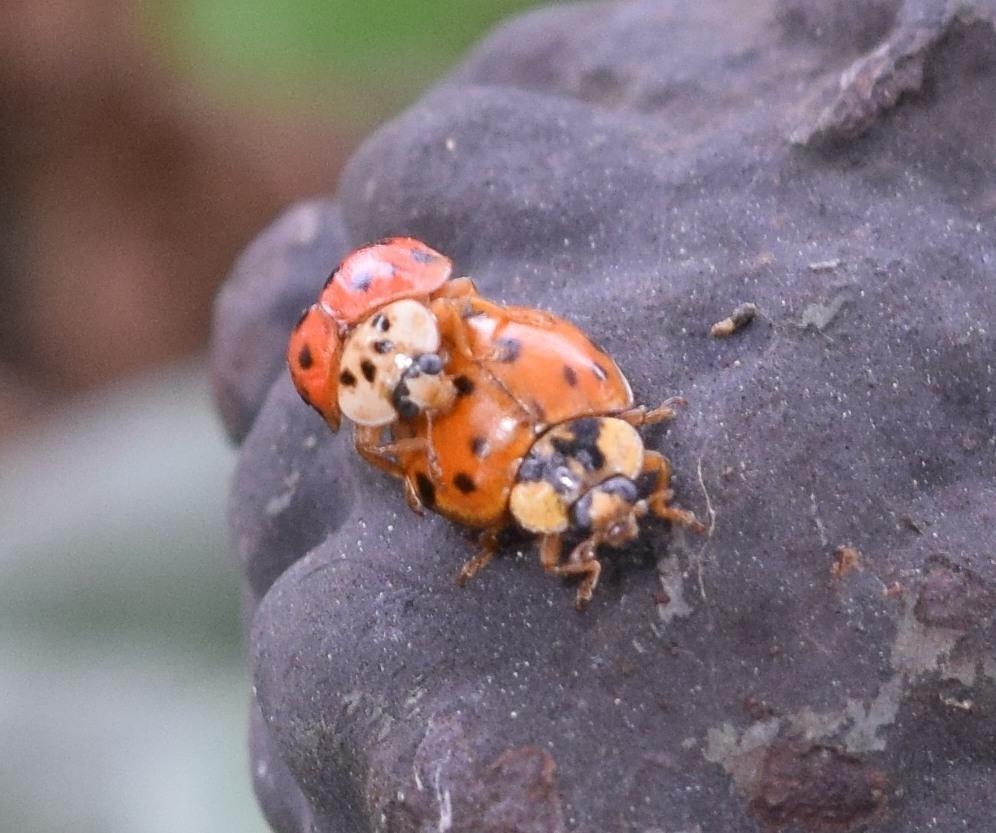ladybug: (386, 304, 714, 614), (289, 234, 554, 519)
